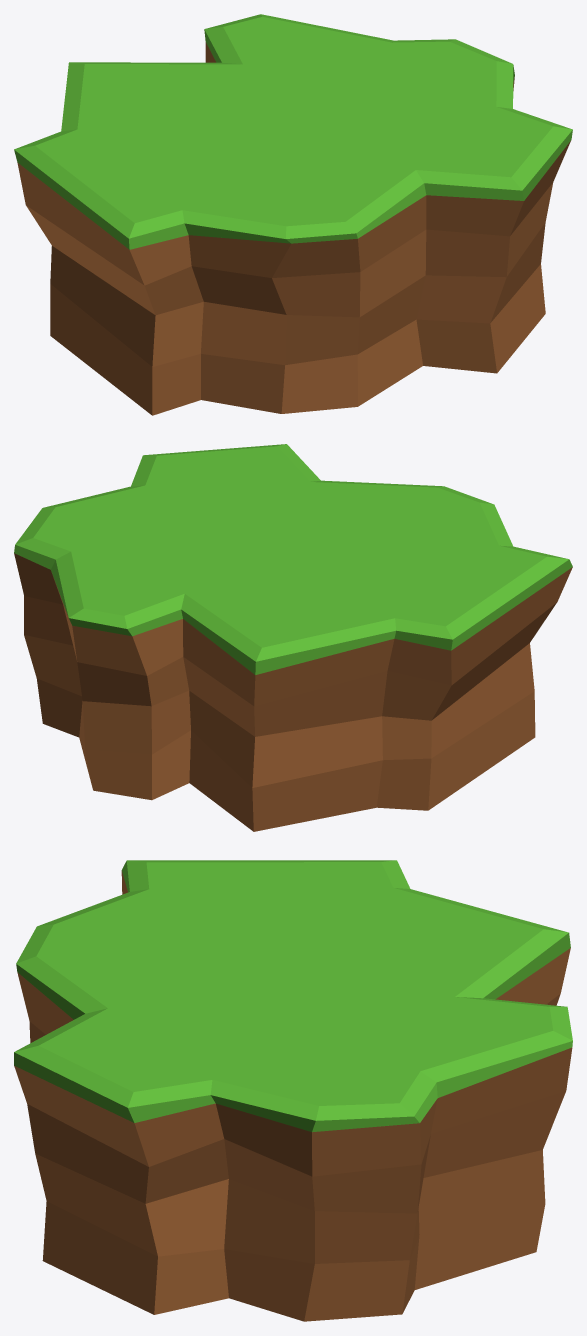
Rendered from rocks.glb.
3 views of the same model, one above another, from view 1: azimuth 30°, elevation 25°; view 2: azimuth 150°, elevation 25°; view 3: azimuth 270°, elevation 25° (orthographic). The views are drawn at different scales.
Visible parts, largest first — view 1: Plane; view 2: Plane; view 3: Plane.
Part boxes in pixels (x1,y1,x2,y2): Plane: [14, 14, 572, 415]; Plane: [14, 444, 572, 831]; Plane: [14, 860, 572, 1321].
Size of the model in its own units: 3.79 by 1.52 by 3.42.
